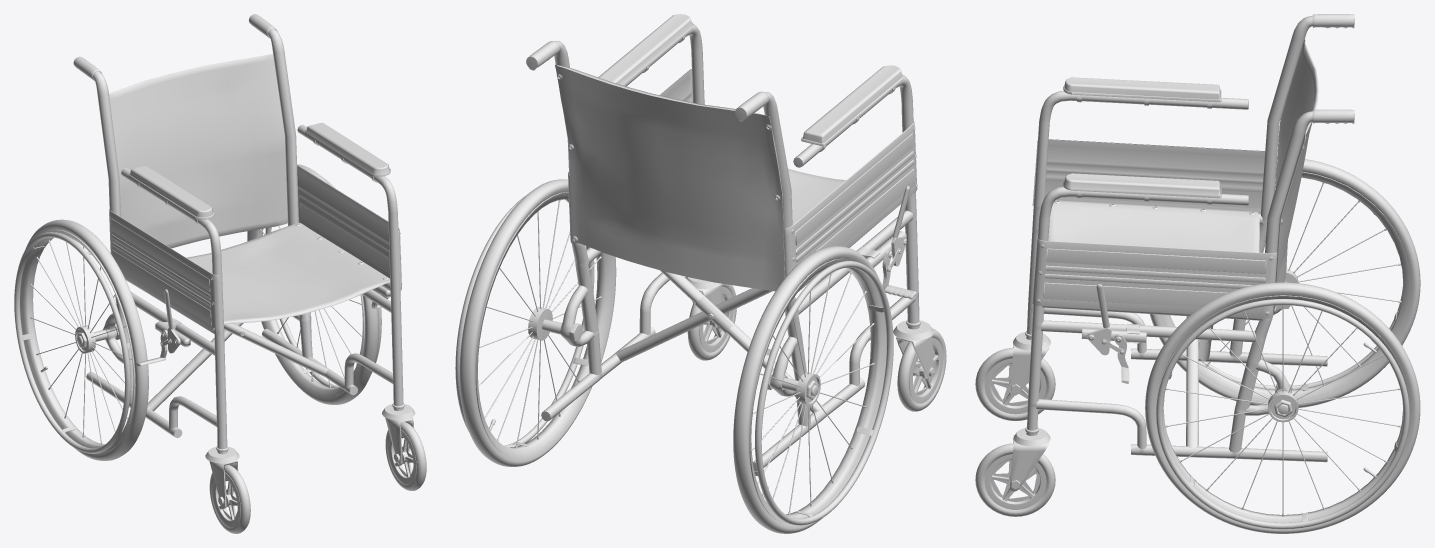
The model's file is wheelchair_01_2k.gltf.
3 renders of one model, left to right at view 1: azimuth 30°, elevation 25°; view 2: azimuth 150°, elevation 25°; view 3: azimuth 270°, elevation 25°, orthographic. The views are drawn at different scales.
Parts seen in each view (by area): view 1: wheelchair_01; view 2: wheelchair_01; view 3: wheelchair_01.
Boxes of the visible parts, x1,y1,x2,y2 form: wheelchair_01: (14,14,426,533); wheelchair_01: (455,14,946,533); wheelchair_01: (975,14,1420,533).
Bounding box in the file's own units: 0.8241 × 1.1 × 1.09.
1 material, 1 textured.
